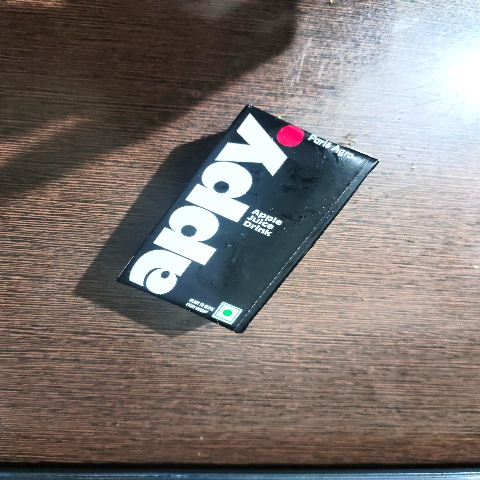appy: (91, 103, 382, 353)
